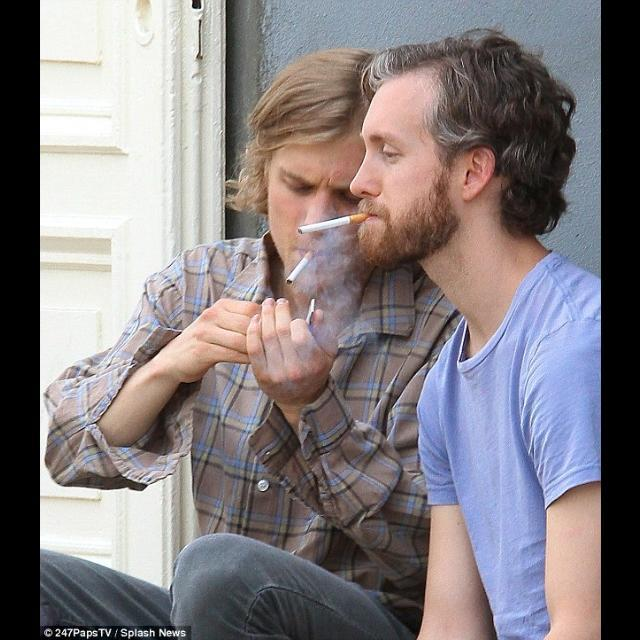rokok: (281, 248, 317, 286), (295, 213, 367, 230)
